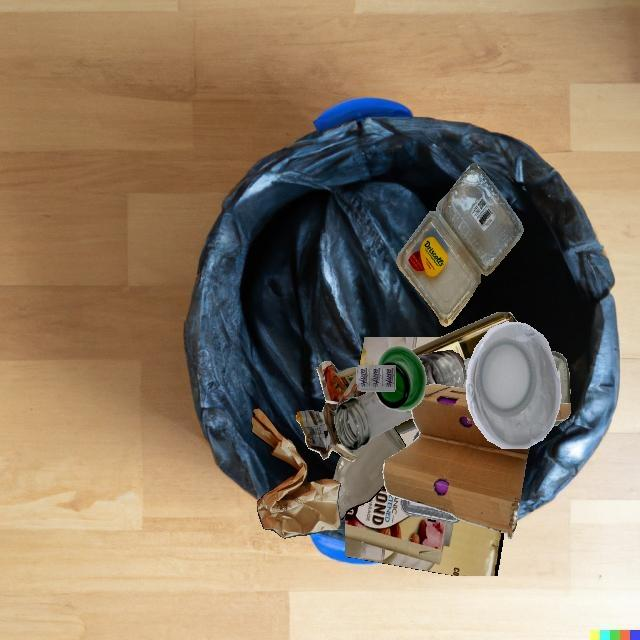cardboard: (382, 384, 530, 539), (345, 485, 454, 576), (437, 520, 504, 576)
glass: (333, 427, 406, 520), (469, 352, 557, 420), (411, 312, 518, 360), (334, 391, 413, 451), (375, 346, 426, 411), (417, 350, 466, 388)
paper: (251, 409, 341, 538), (296, 361, 369, 461)
plastic: (396, 163, 524, 327), (466, 321, 561, 449), (400, 499, 460, 523), (356, 365, 396, 391)
